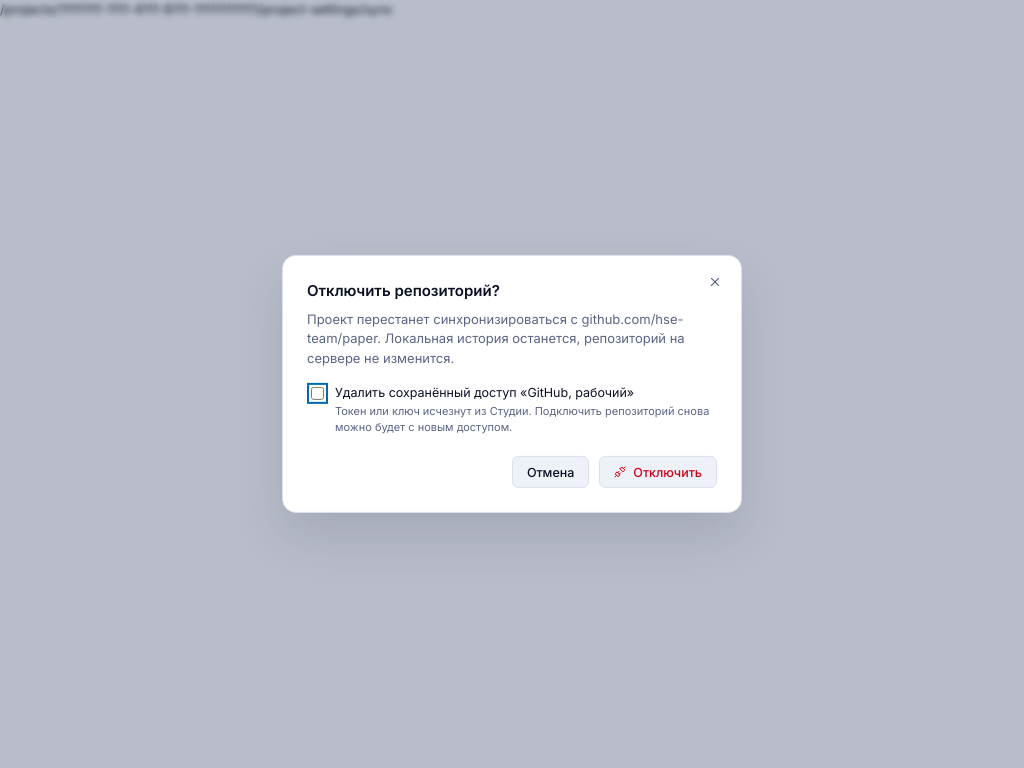
Scenario: окно отключения репозитория › при сбое остаётся открытым и показывает причину
Click the button "Отключить" at (658, 472), box top-left (599, 456), bottom-right (717, 488)
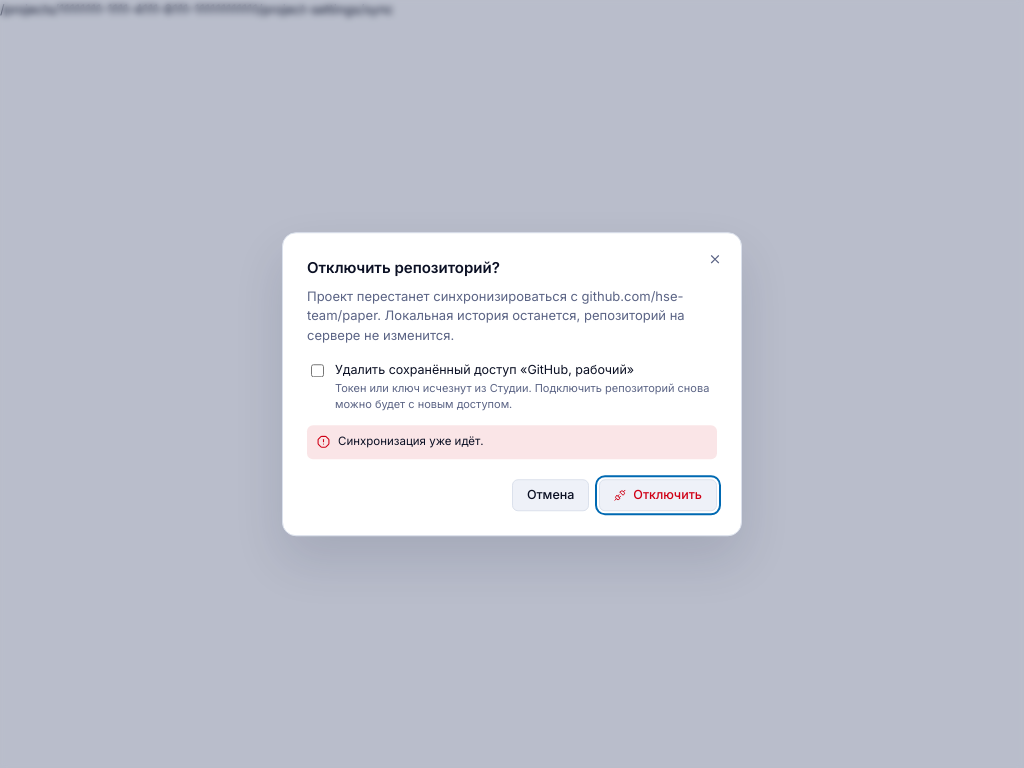
Expected: the button "Отключить" is enabled, top-left (599, 479), bottom-right (717, 511)
Expected: the message "Синхронизация уже идёт." is shown, top-left (307, 426), bottom-right (717, 459)
